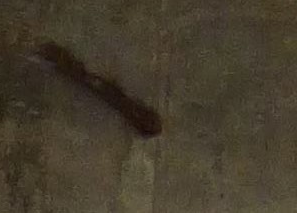Exposed reinforcement: (45, 43, 164, 141)
